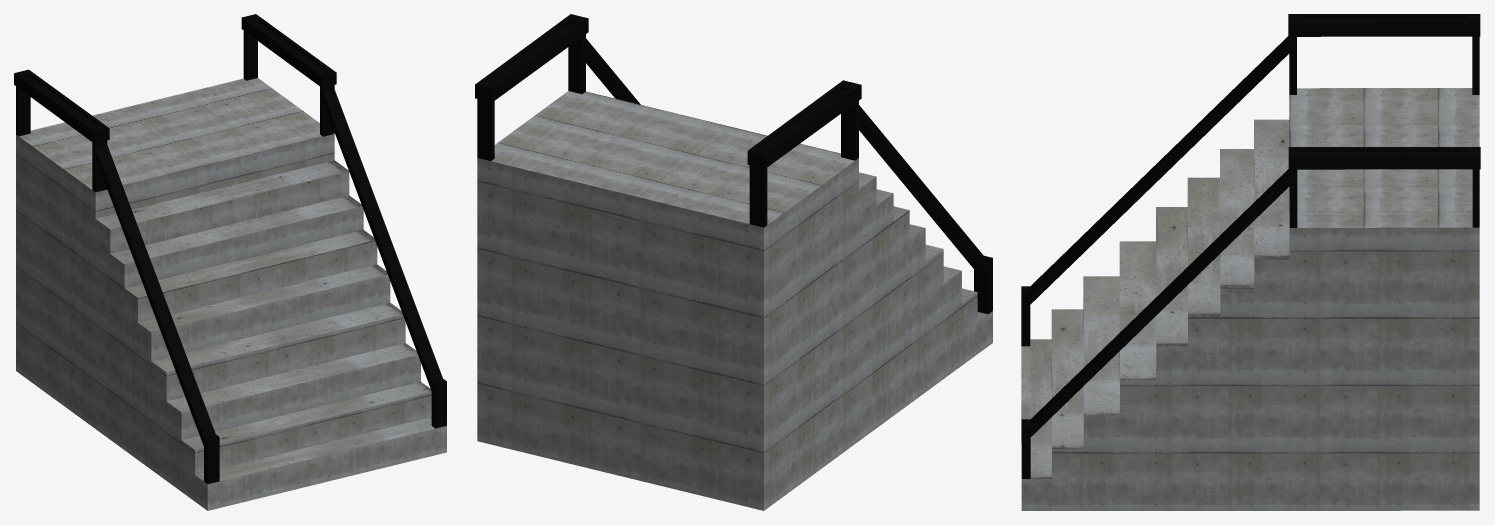
File: FbxStairs.fbx
3 renders of one model, left to right at view 1: azimuth 30°, elevation 25°; view 2: azimuth 150°, elevation 25°; view 3: azimuth 270°, elevation 25°, orthographic. The views are drawn at different scales.
Parts seen in each view (by area): view 1: Stairs; view 2: Stairs; view 3: Stairs.
Boxes of the visible parts, x1=… form: Stairs: x1=14, y1=14, x2=446, y2=510; Stairs: x1=475, y1=14, x2=992, y2=510; Stairs: x1=1021, y1=14, x2=1480, y2=510.
Size of the model in its own units: 2.26 by 2.65 by 3.09.
Materials: 2 (1 with a texture image).
